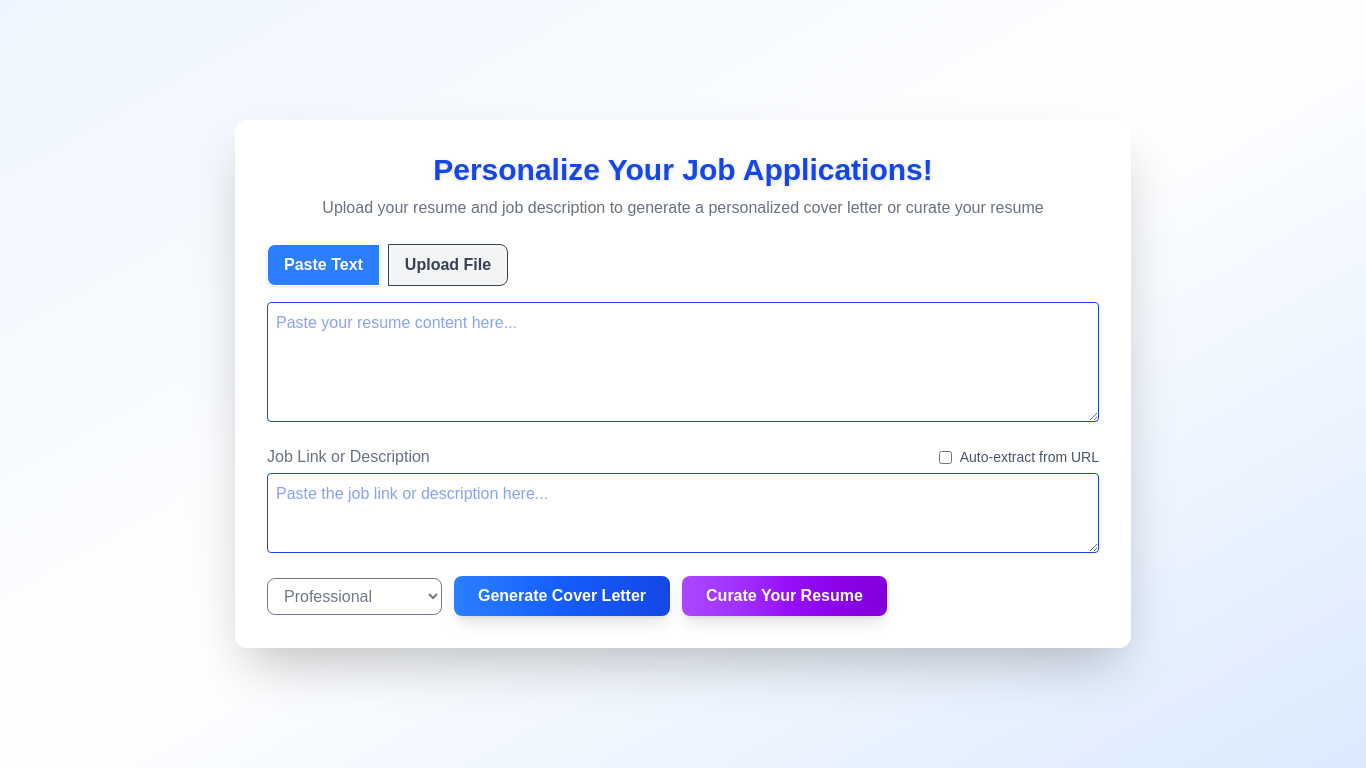
Scenario: Cover Letter Generator Page › should show error message on API failure
Type "Test resume" into the text box with placeholder "Paste your resume content here..." at (683, 362), box [267,302,1099,422]
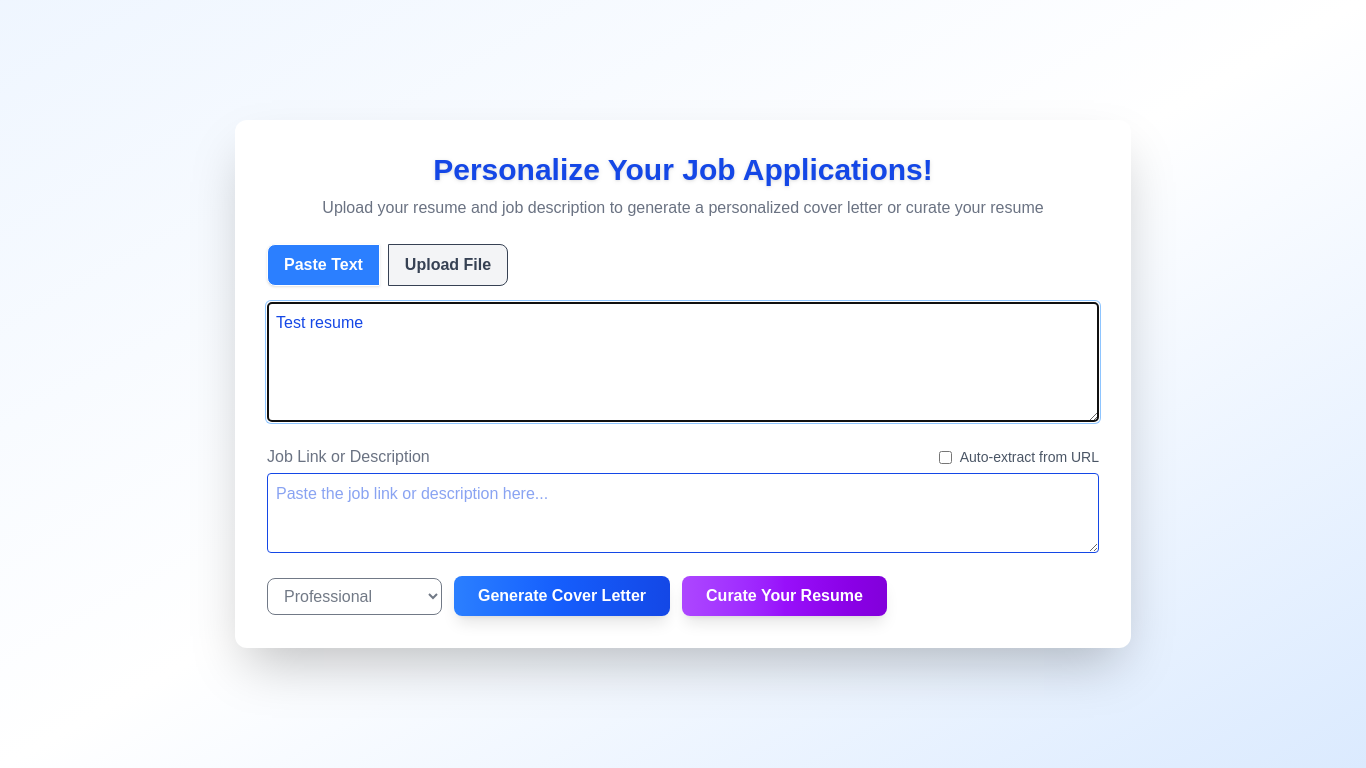
Type "Test job description" into the text box with placeholder "Paste the job link or description here..." at (683, 513), box [267,473,1099,553]
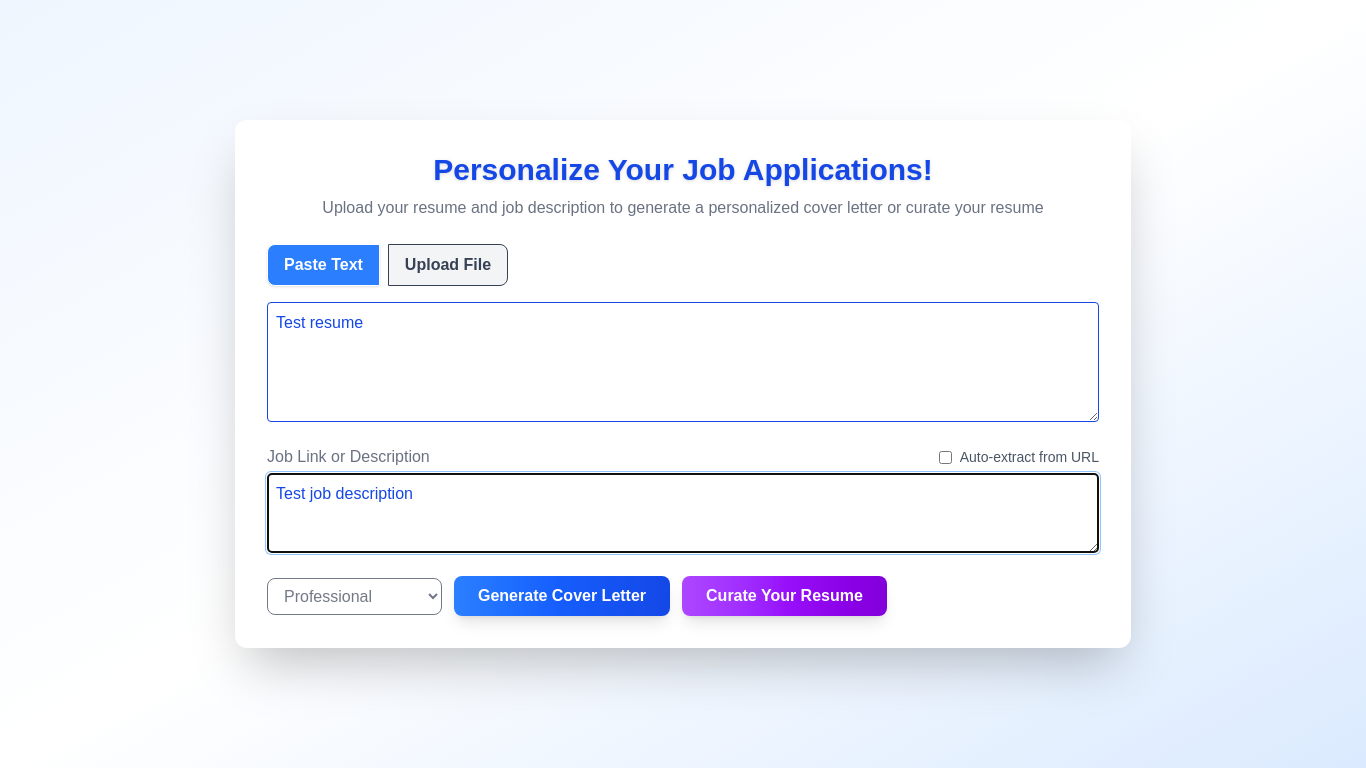
Select "Professional" in the dropdown at (354, 596), box [267,578,442,614]
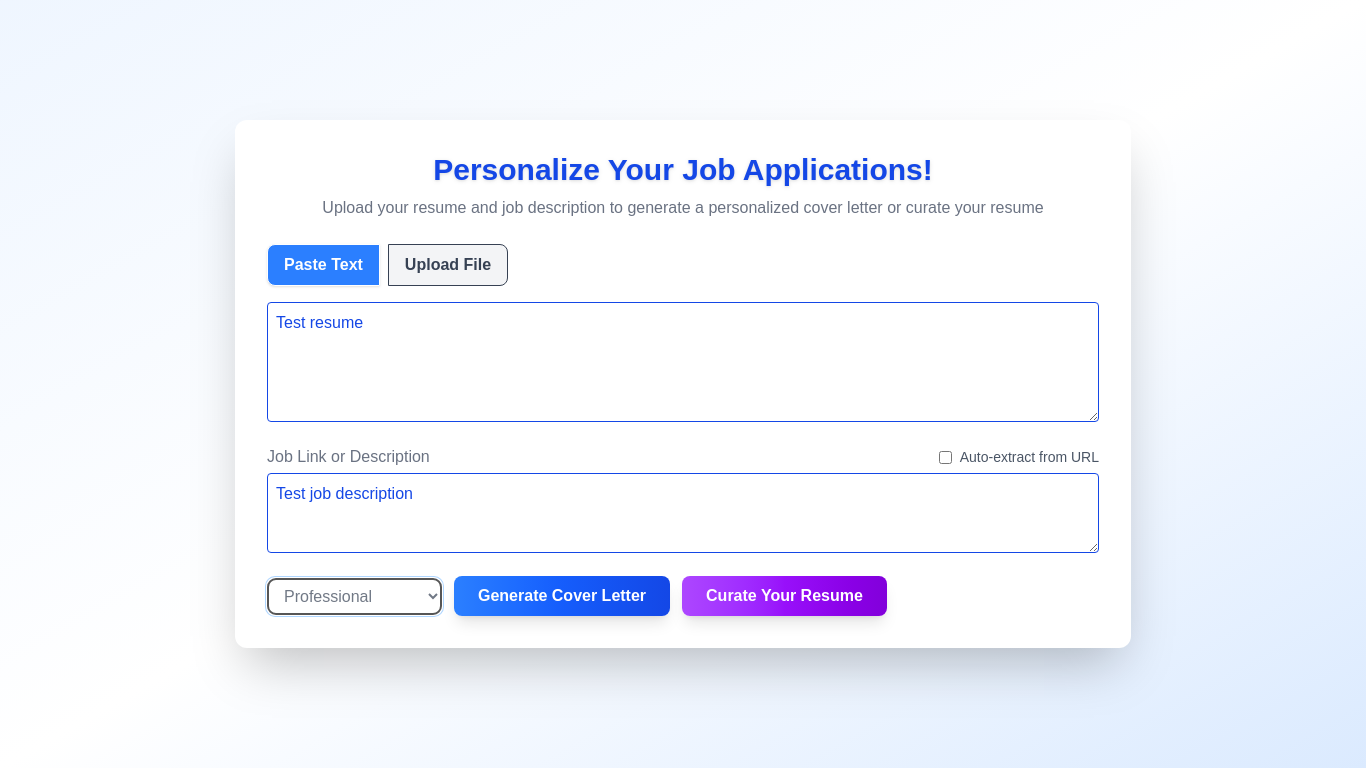
Note: Click generate button
Click the button "Generate Cover Letter" at (562, 596), box [454,576,670,616]
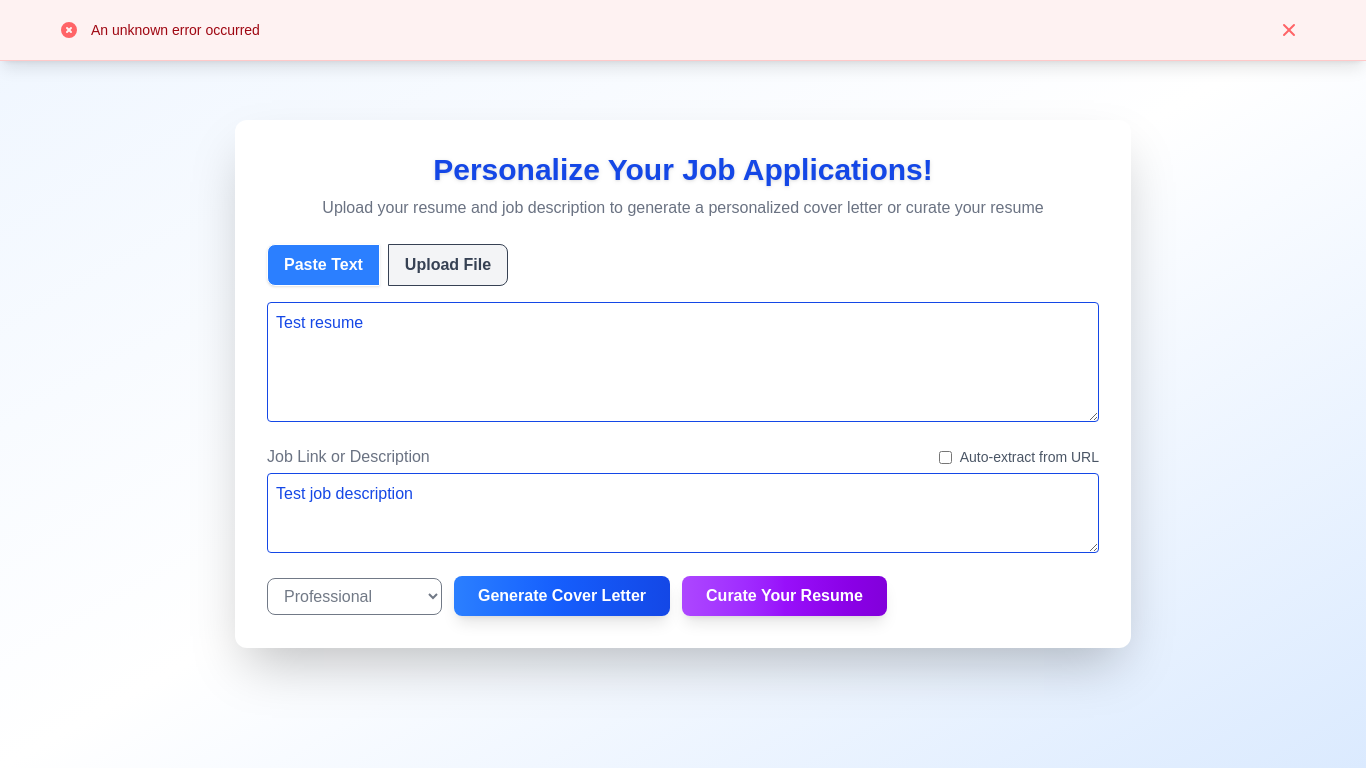
Expected: the text "An unknown error occurred" is shown, [91,20,260,40]
